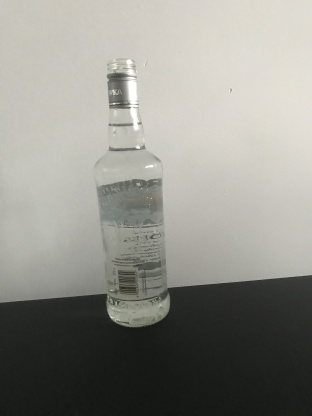nakretka: (104, 57, 141, 109)
